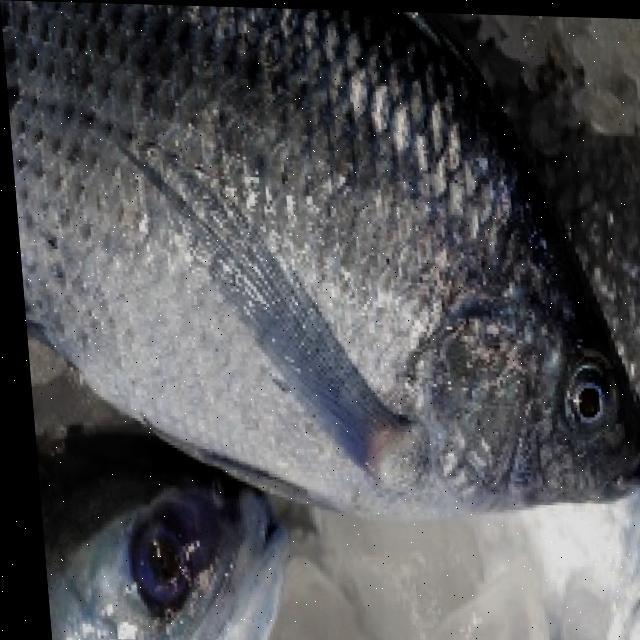Fresh: (0, 0, 640, 531)
